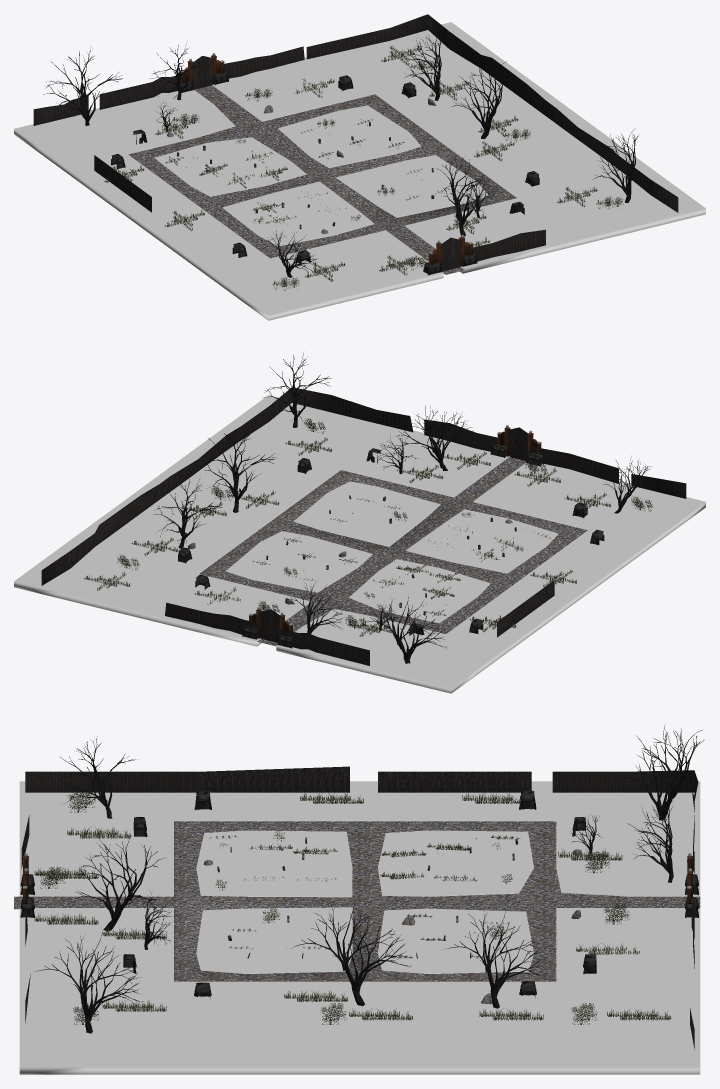
File: graveyard.fbx
The picture shows the model from 3 angles, top to bottom: view 1: azimuth 30°, elevation 25°; view 2: azimuth 150°, elevation 25°; view 3: azimuth 270°, elevation 25°; orthographic projection. The views are drawn at different scales.
Visible parts, largest first — view 1: lawn, ground:Mesh, fence:Mesh, trees, grassblades, gates1, shrubs13, Mausoleums; view 2: lawn, ground:Mesh, fence:Mesh, trees, grassblades, gates1, shrubs13, Mausoleums; view 3: lawn, ground:Mesh, fence:Mesh, trees, grassblades, shrubs13, Mausoleums, gates1.
Boxes of the visible parts, x1,y1,x2,y2 form: lawn: (14, 22, 705, 320); ground:Mesh: (128, 85, 516, 274); fence:Mesh: (33, 14, 678, 261); trees: (43, 30, 639, 277); grassblades: (104, 45, 597, 281); gates1: (177, 53, 477, 275); shrubs13: (172, 60, 623, 290); Mausoleums: (111, 75, 539, 263); lawn: (14, 395, 705, 693); ground:Mesh: (199, 457, 587, 646); fence:Mesh: (41, 387, 686, 665); trees: (154, 352, 651, 663); grassblades: (84, 437, 610, 636); gates1: (242, 425, 542, 648); shrubs13: (117, 418, 652, 630); Mausoleums: (178, 448, 604, 635); lawn: (19, 781, 700, 1074); ground:Mesh: (14, 821, 700, 981); fence:Mesh: (21, 766, 698, 1049); trees: (34, 724, 704, 1033); grassblades: (34, 791, 671, 1020); shrubs13: (38, 791, 629, 1024); Mausoleums: (123, 790, 596, 998); gates1: (20, 853, 698, 917).
Bounding box in the file's own units: 22.69 × 4.52 × 23.26.
